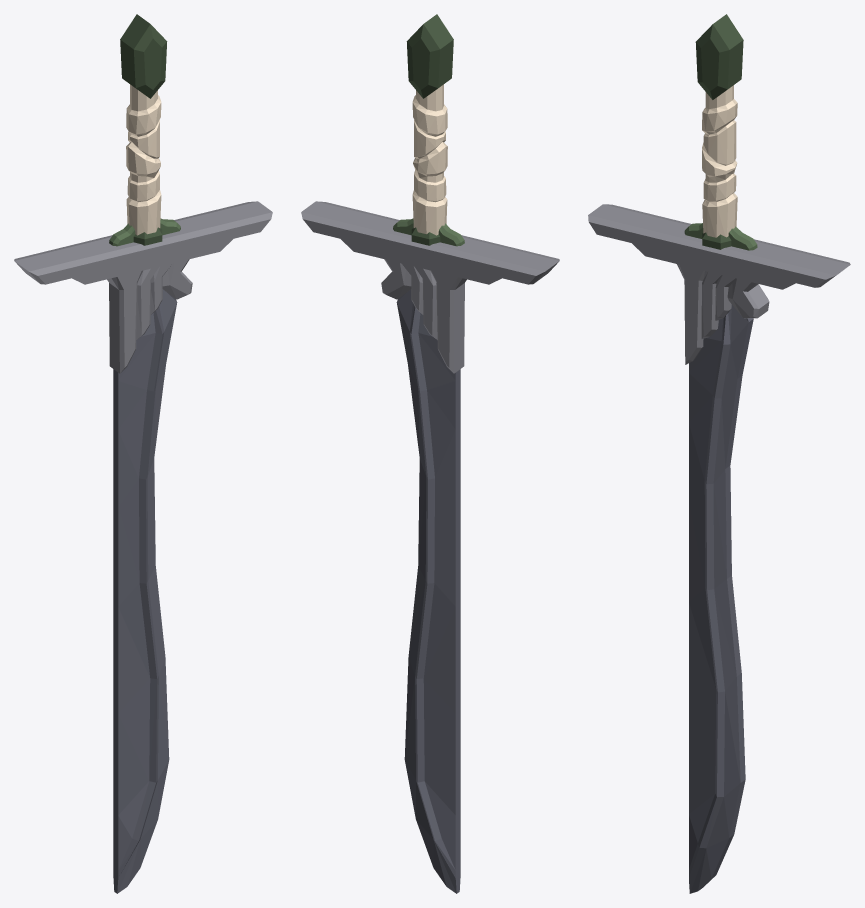
File: _SWORD_2.fbx
3 renders of one model, left to right at view 1: azimuth 30°, elevation 25°; view 2: azimuth 150°, elevation 25°; view 3: azimuth 330°, elevation 25°, orthographic.
Visible parts, largest first — view 1: SWORD_2; view 2: SWORD_2; view 3: SWORD_2.
Part boxes in pixels (x1,y1,x2,y2): SWORD_2: [14, 14, 272, 893]; SWORD_2: [301, 14, 559, 893]; SWORD_2: [588, 14, 850, 893].
Size of the model in its own units: 42.56 by 144 by 7.03.
